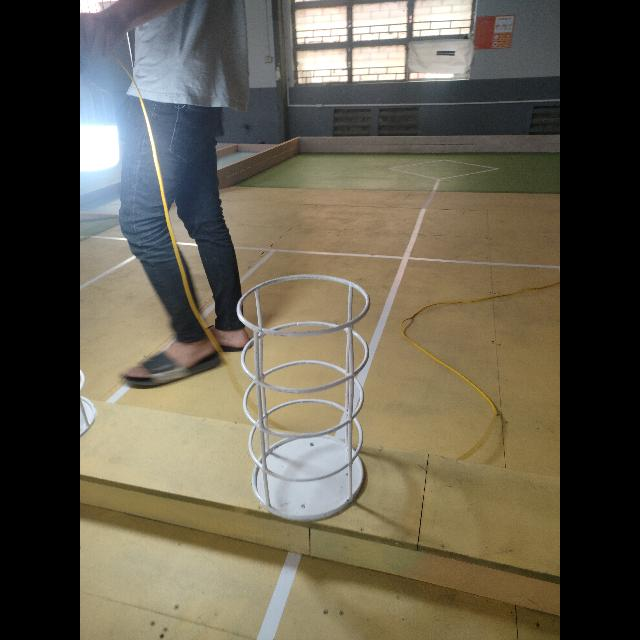S: (230, 270, 374, 526)
